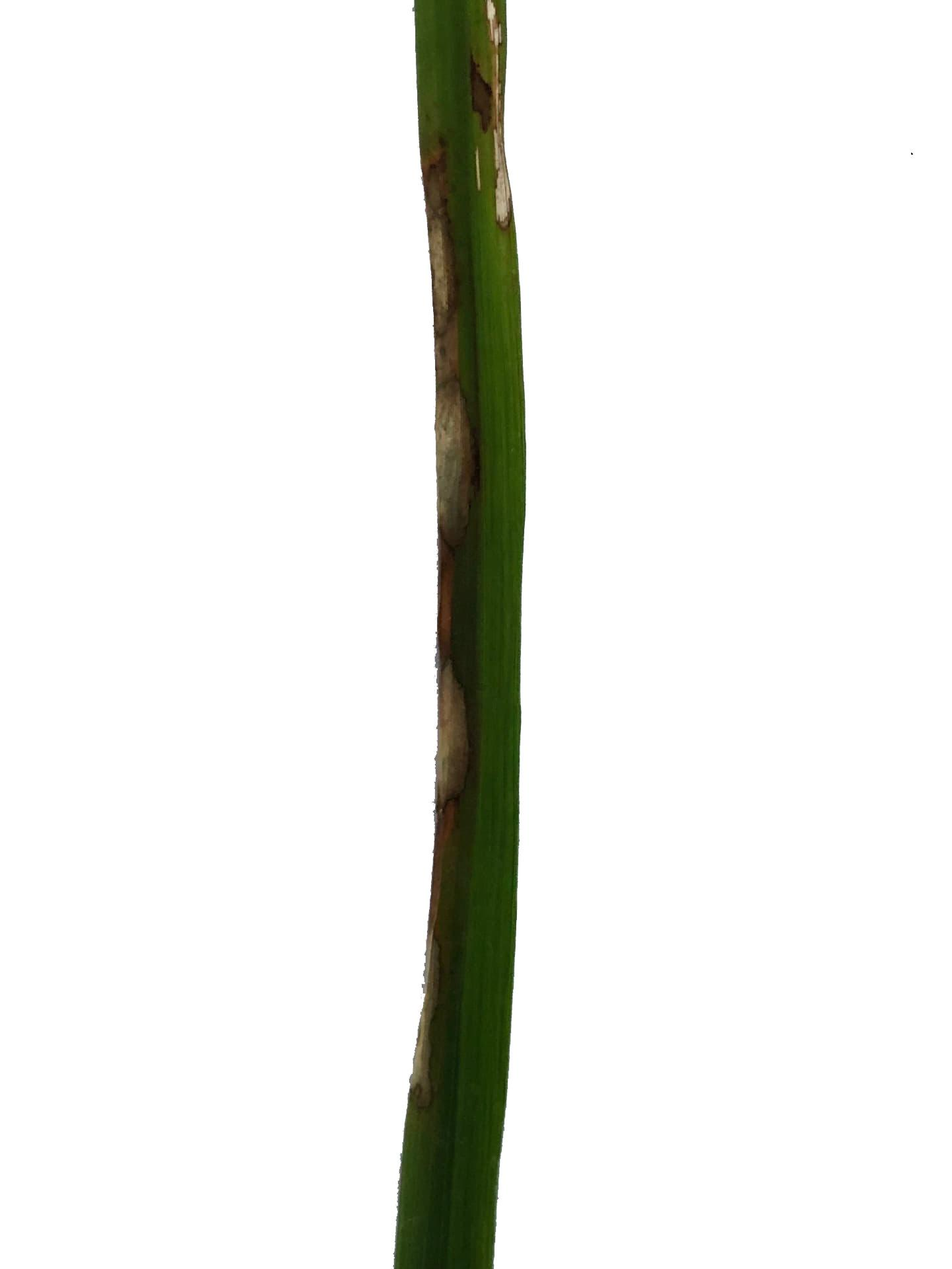Blight: (433, 634, 499, 853), (410, 139, 473, 354), (433, 390, 499, 585)
